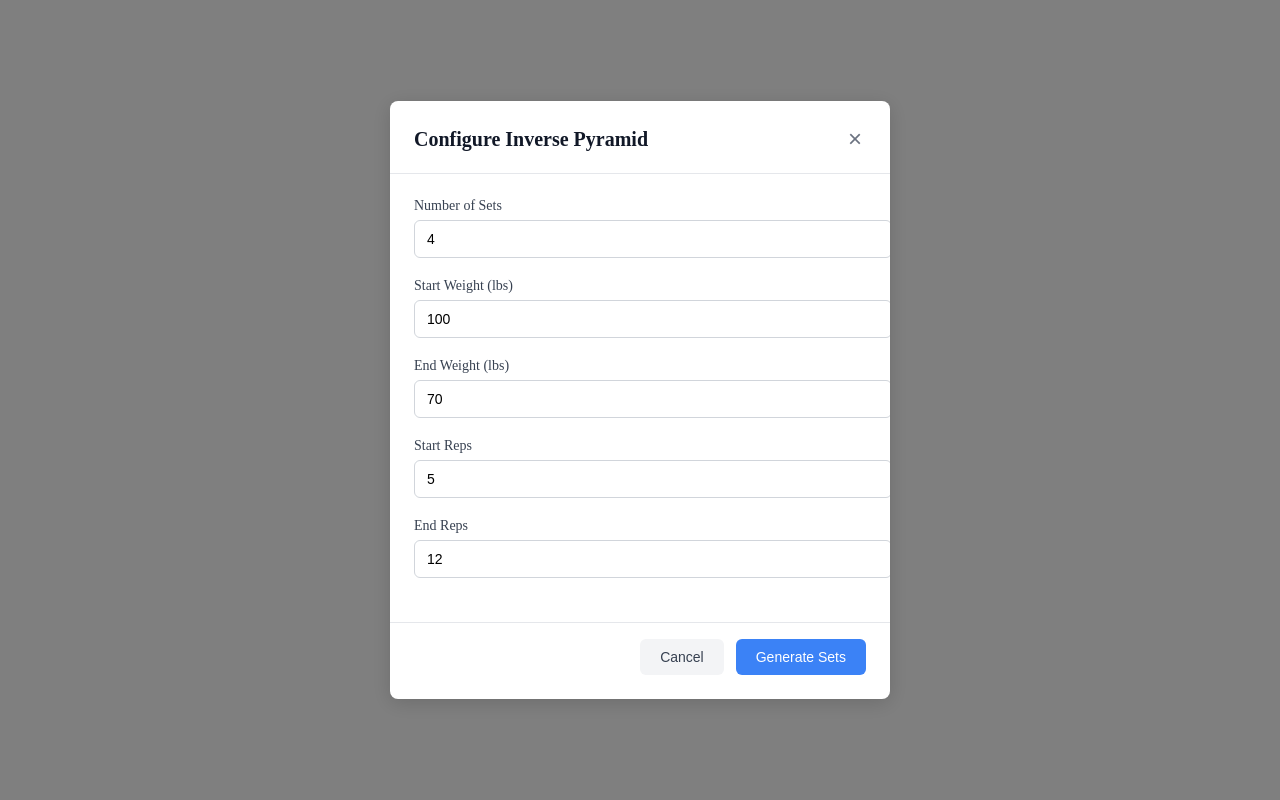
Test case: InversePyramidModal › shows error message when generateInversePyramidSets throws error
The width and height of the screenshot is (1280, 800).
Click the button "Generate Sets" at (801, 657), box [736,639,866,675]
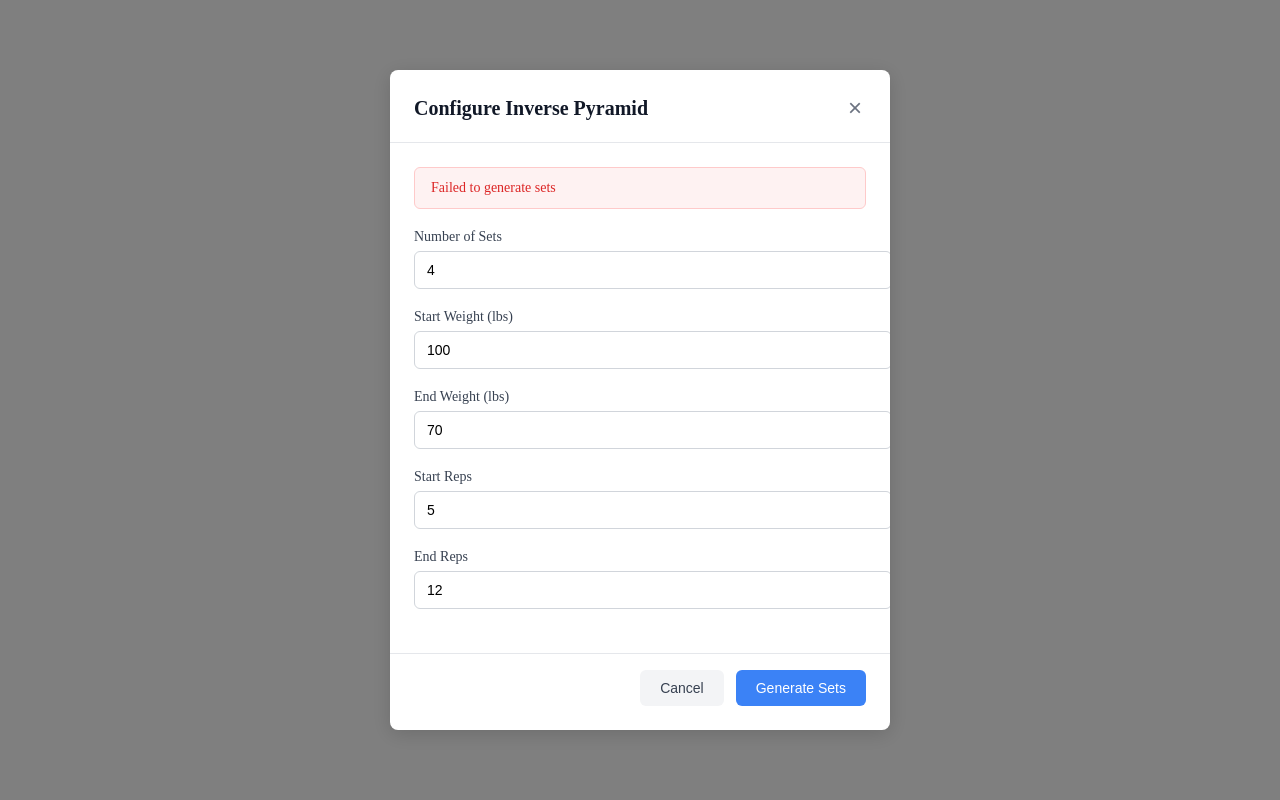
Result: the text "Failed to generate sets" is shown at [431,180,556,195]
